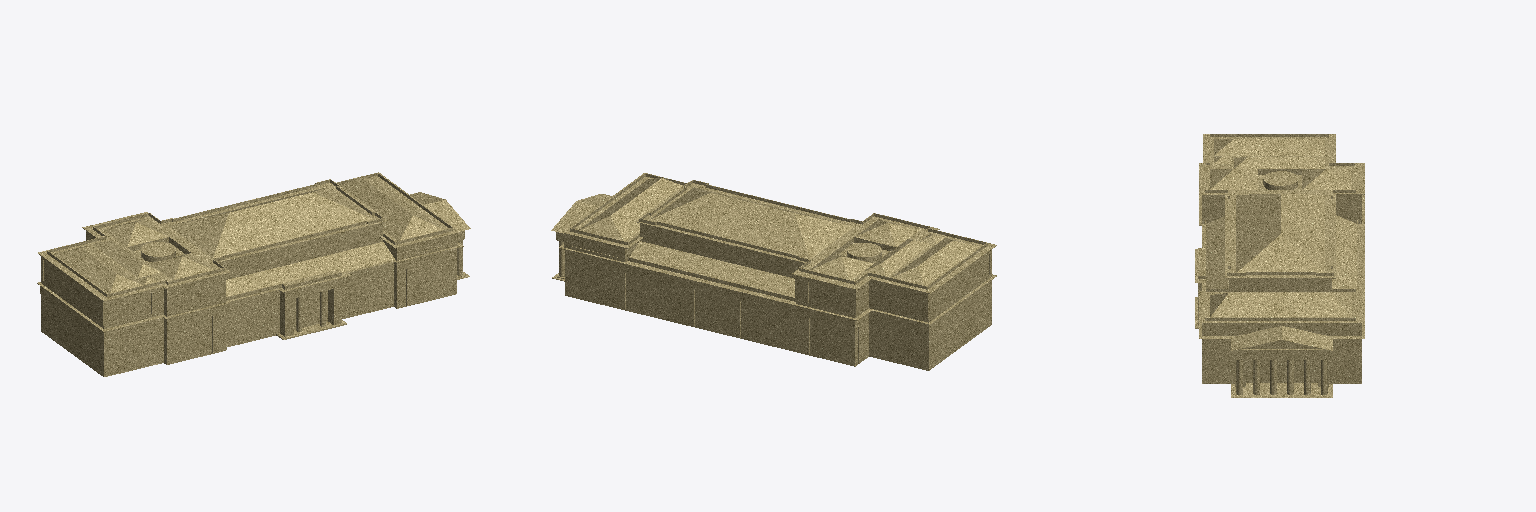
The picture shows the model from 3 angles: view 1: azimuth 30°, elevation 25°; view 2: azimuth 150°, elevation 25°; view 3: azimuth 270°, elevation 25°; orthographic projection.
Parts seen in each view (by area): view 1: Combined; view 2: Combined; view 3: Combined.
Boxes of the visible parts, x1=… form: Combined: x1=37, y1=172, x2=470, y2=376; Combined: x1=551, y1=173, x2=996, y2=370; Combined: x1=1195, y1=134, x2=1364, y2=397.
Size of the model in its own units: 0.3811 by 0.0947 by 0.1472.
1 materials, 1 textured.